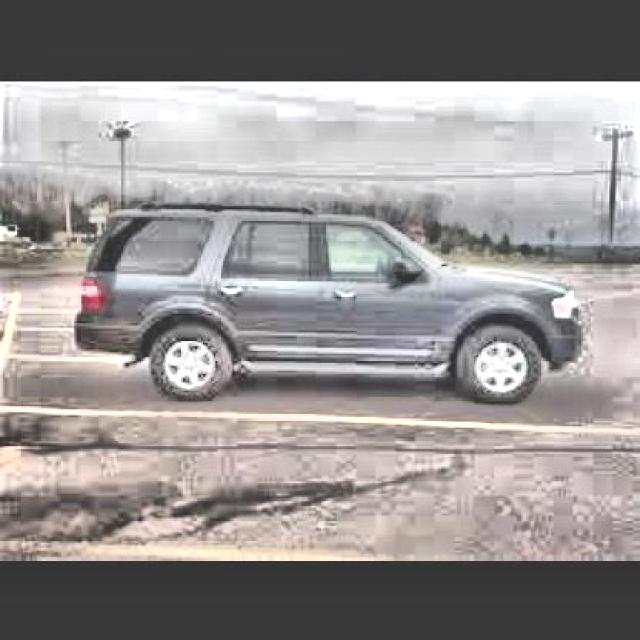black: (82, 192, 569, 378)
